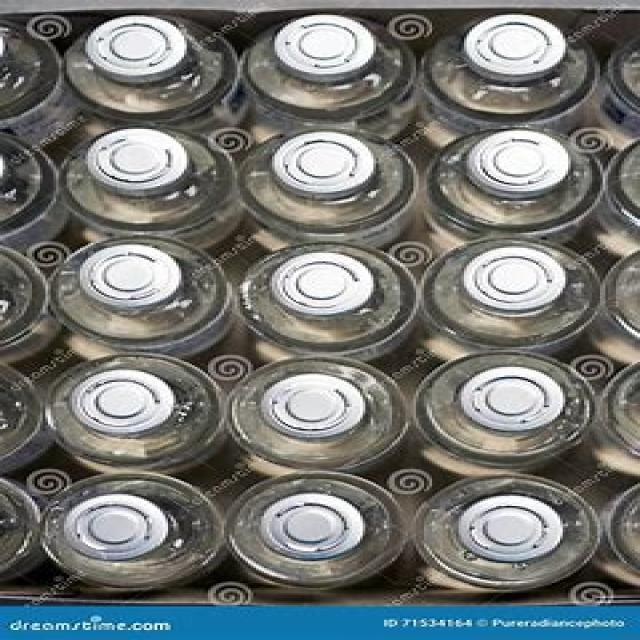vial: (267, 492, 381, 564), (472, 14, 587, 83), (449, 496, 560, 554), (469, 131, 576, 191), (95, 131, 186, 198), (272, 134, 374, 191), (270, 261, 394, 306), (75, 380, 183, 431), (261, 377, 356, 434), (274, 10, 368, 65), (59, 505, 166, 553), (90, 19, 182, 69), (100, 252, 186, 303), (472, 256, 558, 306), (466, 377, 540, 426), (0, 17, 32, 79), (0, 124, 13, 220), (624, 248, 640, 312), (0, 479, 11, 543), (0, 260, 9, 332), (0, 377, 11, 428), (626, 502, 640, 540), (633, 138, 640, 210), (628, 382, 640, 415)
